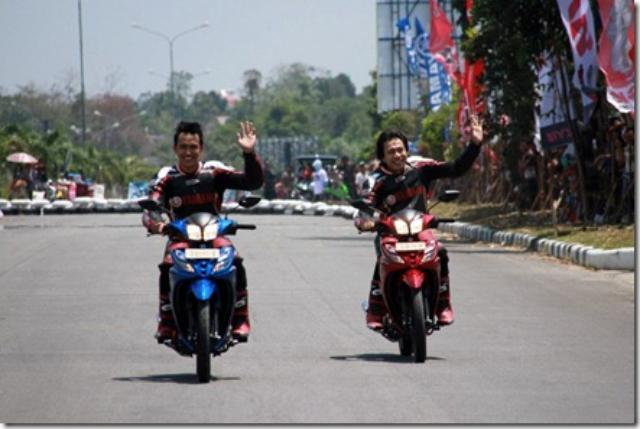motor: (139, 191, 263, 383), (351, 190, 462, 365)
non-helm: (174, 122, 205, 169), (378, 131, 411, 172)
